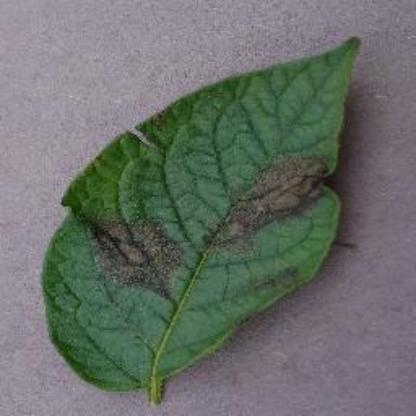Late-Blight: (25, 25, 378, 411)
